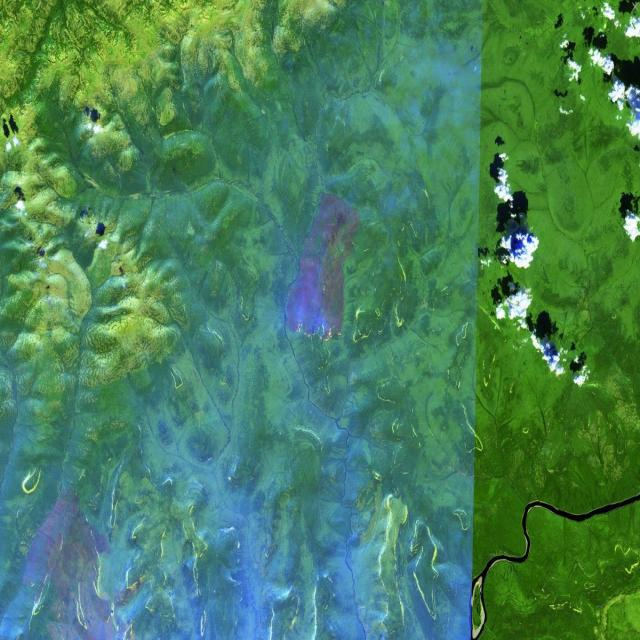fire: (282, 298, 350, 352)
